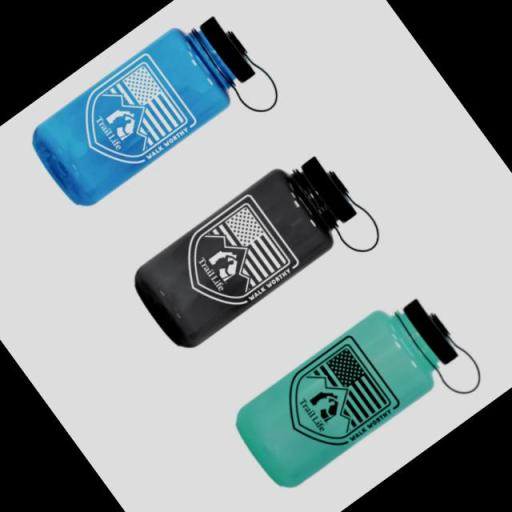bottle: (118, 134, 388, 380), (16, 0, 288, 240), (220, 276, 490, 512)
